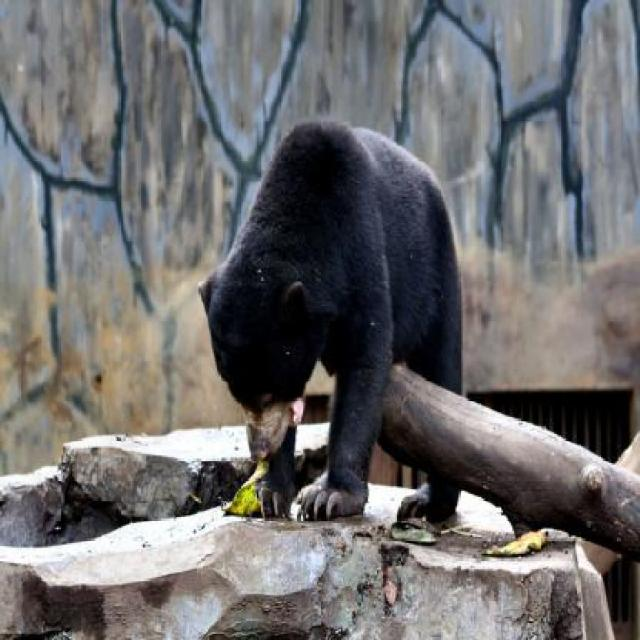Bear: (195, 115, 463, 527)
